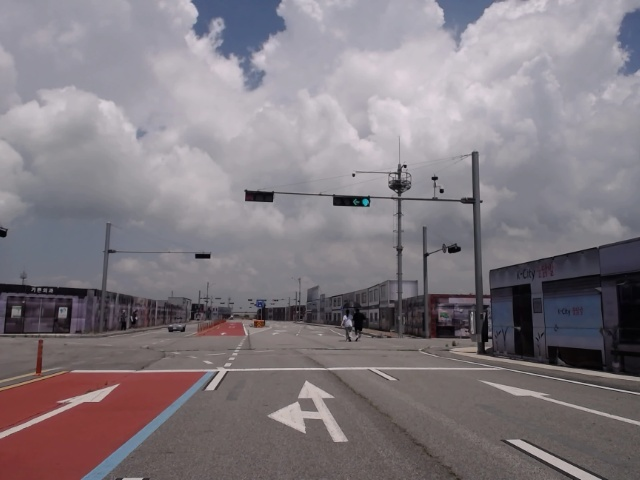all_green_4: (332, 194, 371, 207)
